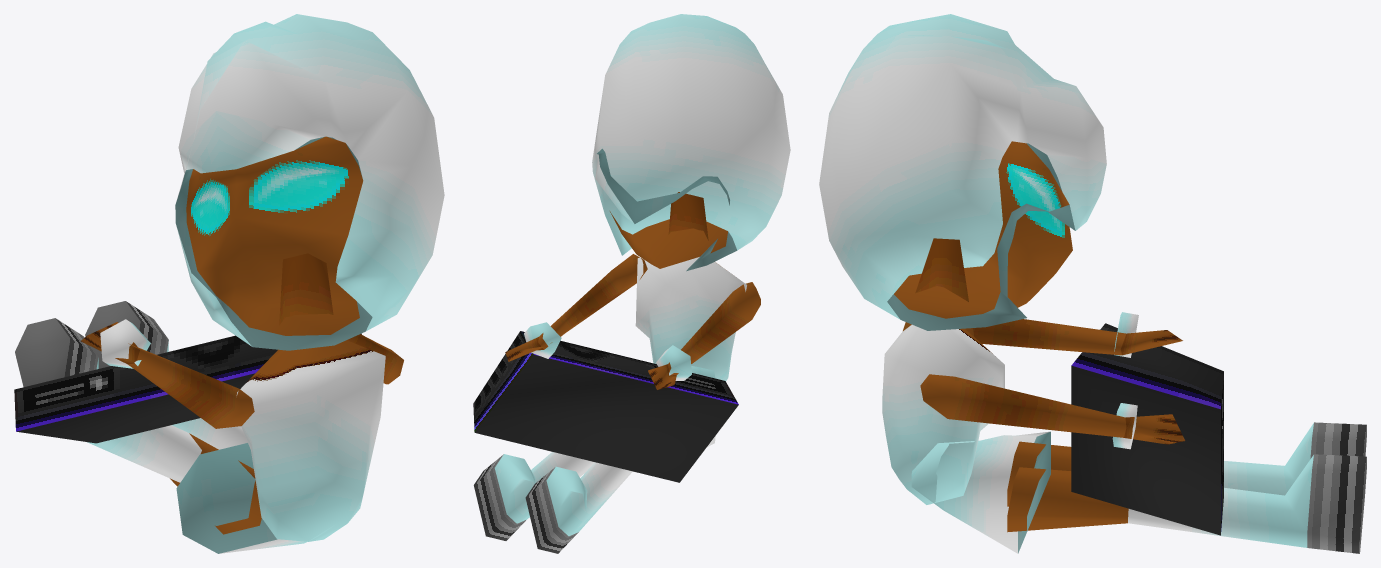
The model's file is ps2_save-icons_beatmaniaiidx3rdstyle.glb.
3 views of the same model, side by side, from view 1: azimuth 30°, elevation 25°; view 2: azimuth 150°, elevation 25°; view 3: azimuth 270°, elevation 25° (orthographic). The views are drawn at different scales.
Parts seen in each view (by area): view 1: 2DXICON.ico; view 2: 2DXICON.ico; view 3: 2DXICON.ico.
Boxes of the visible parts, x1,y1,x2,y2 form: 2DXICON.ico: (14, 14, 444, 553); 2DXICON.ico: (473, 14, 790, 553); 2DXICON.ico: (819, 14, 1366, 553).
Bounding box in the file's own units: 2.34 × 4.34 × 4.28.
1 material, 1 textured.
